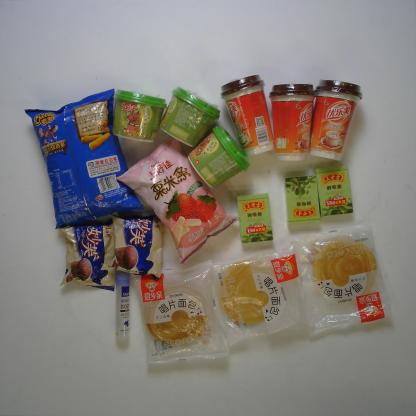Candy: (234, 191, 274, 244), (314, 165, 354, 217), (284, 174, 321, 224)
Dessert: (288, 222, 394, 341), (203, 242, 310, 350), (131, 258, 229, 365), (58, 219, 117, 293), (108, 210, 166, 282)
Instant Drink: (308, 79, 364, 162), (220, 74, 276, 157), (158, 82, 221, 150), (187, 124, 251, 189), (269, 83, 316, 163), (111, 88, 167, 144)
Puffed Food: (24, 88, 146, 230), (115, 142, 242, 266)
Stationery: (112, 266, 134, 341)
